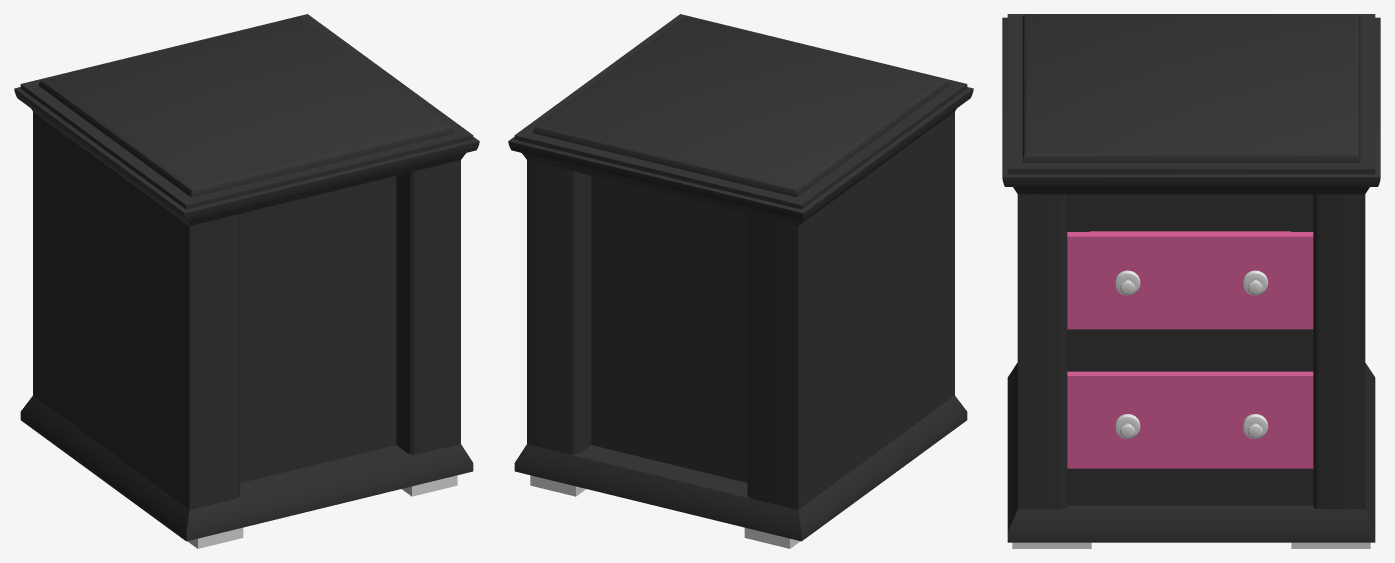
The model's file is bedsidedrawer6.fbx.
3 renders of one model, left to right at view 1: azimuth 30°, elevation 25°; view 2: azimuth 150°, elevation 25°; view 3: azimuth 270°, elevation 25°, orthographic. The views are drawn at different scales.
Visible parts, largest first — view 1: Upper, feet2; view 2: Upper, feet2; view 3: Upper, buttons, feet2.
Part boxes in pixels (x1,y1,x2,y2): Upper: (14,14,479,541); feet2: (187,475,457,548); Upper: (508,14,973,541); feet2: (530,475,800,548); Upper: (1002,14,1380,542); buttons: (1067,231,1313,468); feet2: (1012,542,1370,548).
Bounding box in the file's own units: 224 × 251 × 218.
